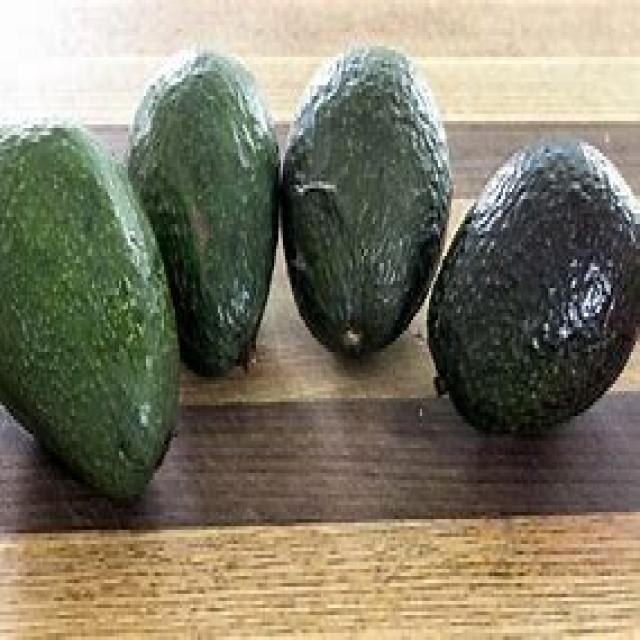avocado: (0, 119, 182, 508), (426, 137, 639, 451), (268, 45, 454, 354), (125, 52, 282, 380)
